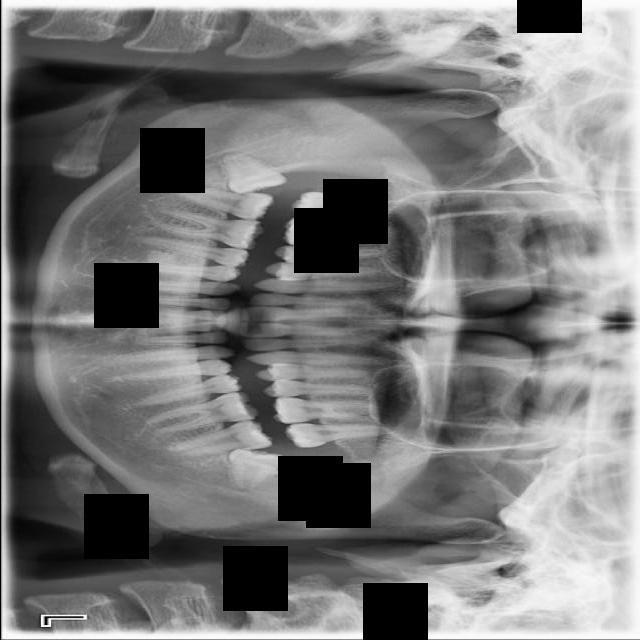73: (29, 616, 33, 624)
BioHorizons Implant: (282, 422, 393, 452)
Biomet 3i Implant: (222, 447, 288, 497)
Blue Sky Bio Implant: (168, 417, 272, 463)
Caries: (289, 188, 400, 218)
Implant: (167, 182, 273, 223)
Keystone Dental Implant: (218, 141, 288, 198)
